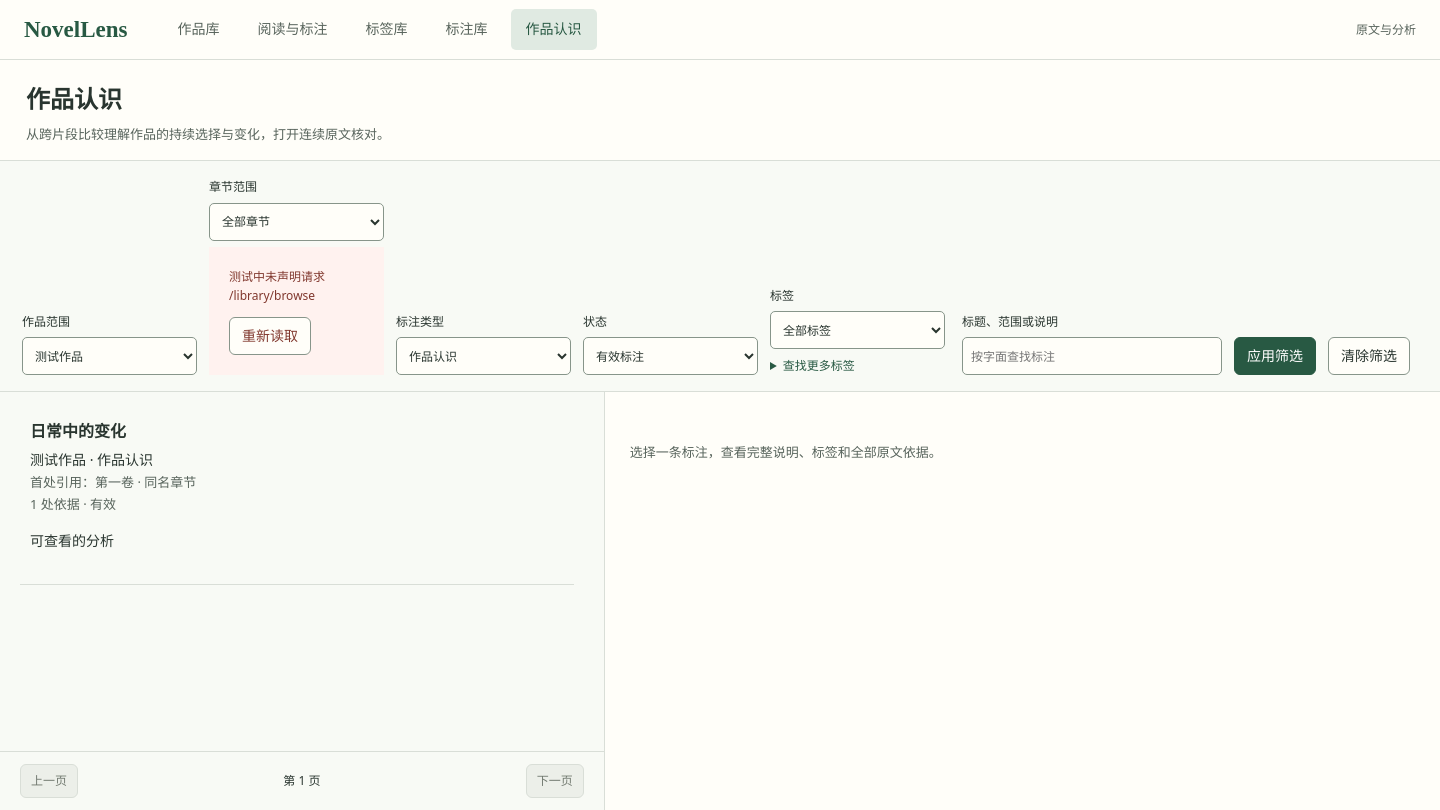
Test: 作品认识深链打开对应作品，回读再返回保留范围
This screenshot has width=1440, height=810.
Check: the heading "作品认识" is shown, box [26, 82, 122, 115]
Click the button "可查看的分析".
click(78, 431)  # box [20, 402, 574, 585]
(page scrolled)
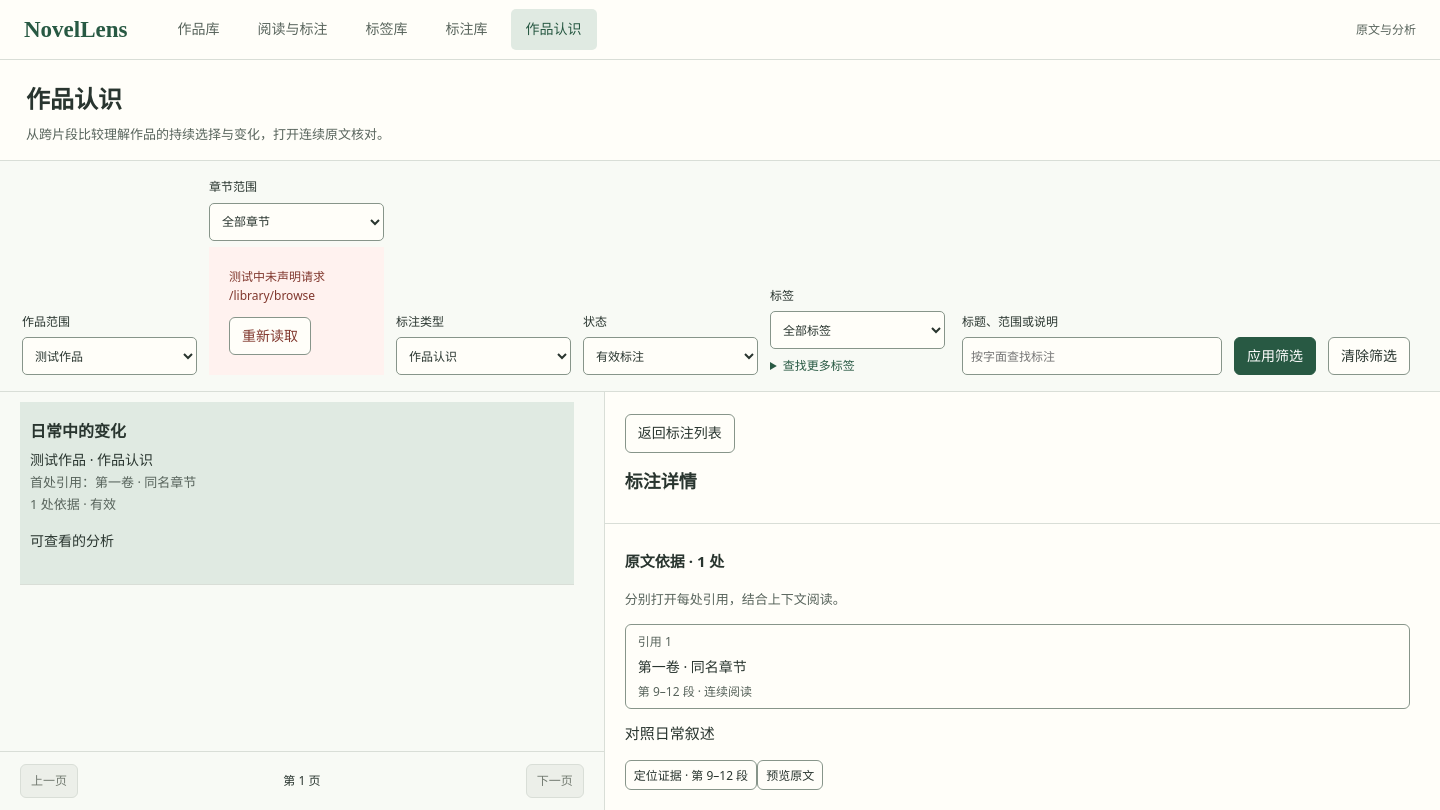
Click the button "引用 1 第一卷 · 同名章节 第 9–12 段 · 连续阅读".
click(659, 666)  # box [625, 624, 1410, 709]
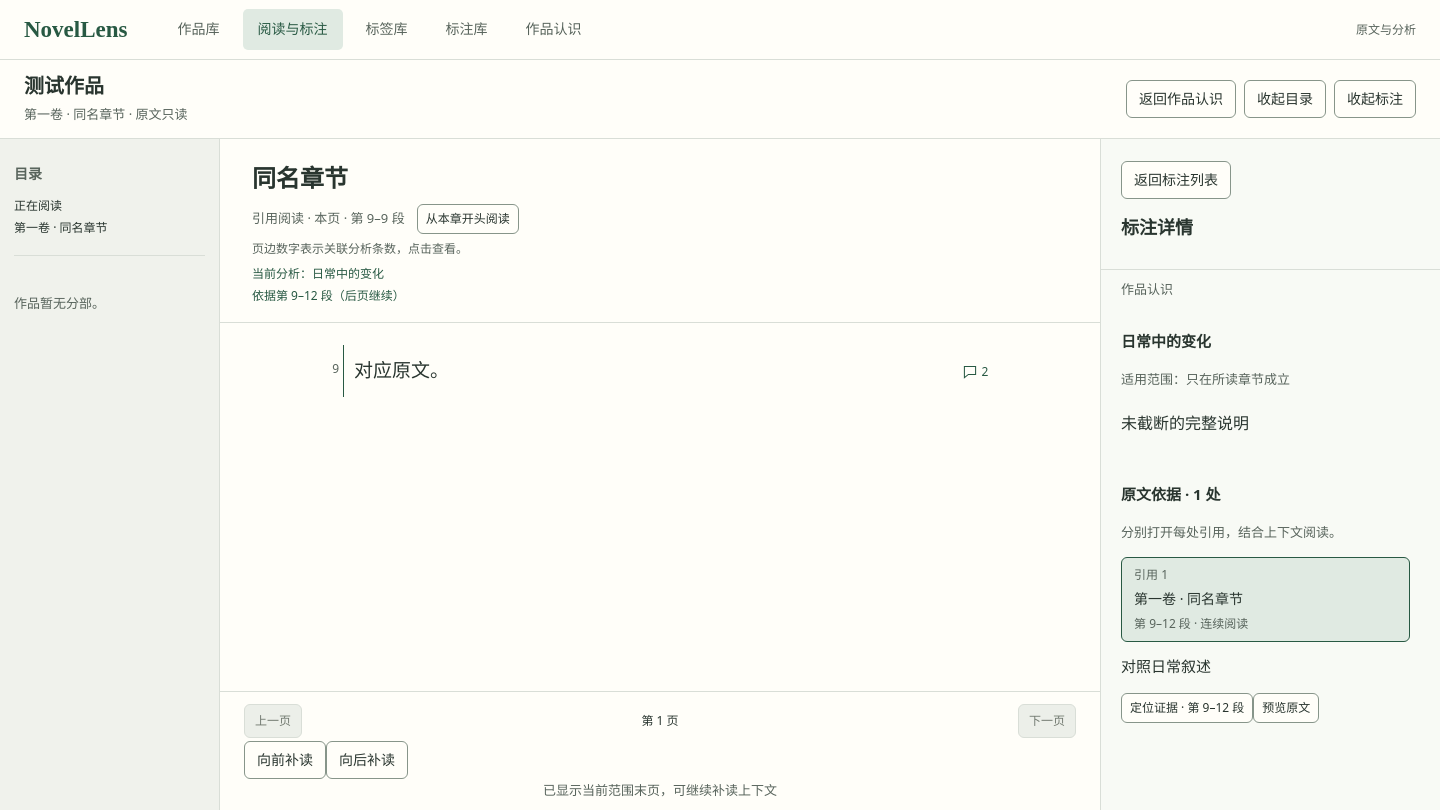
Click the button "返回作品认识".
click(1181, 99)  # box [1126, 80, 1236, 118]
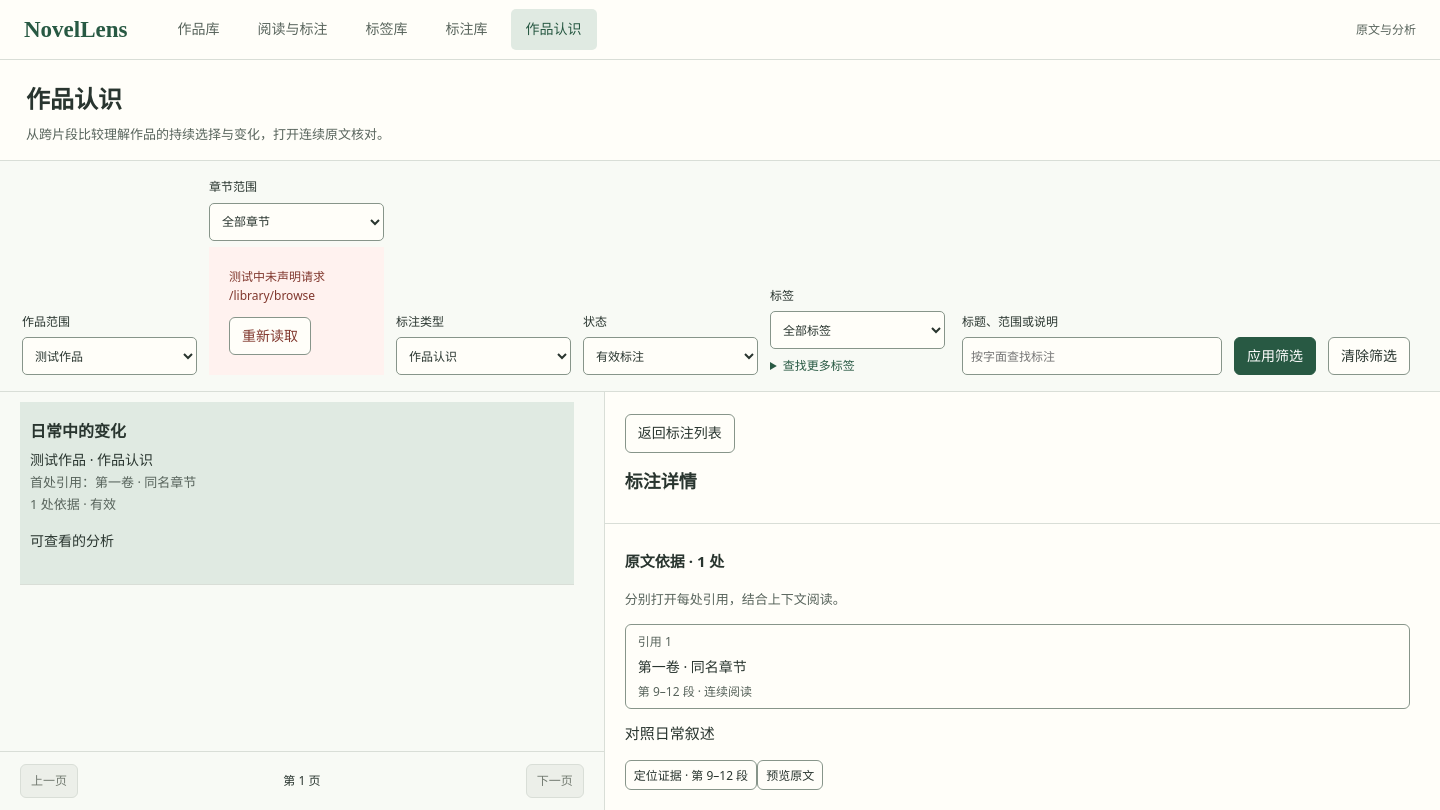
Check: the heading "作品认识" is shown, box [26, 82, 122, 115]
